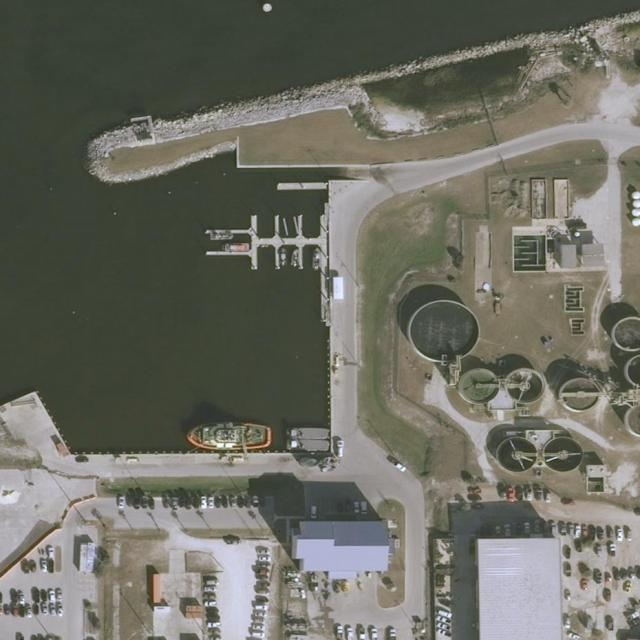Hovercraft: (182, 420, 274, 450)
